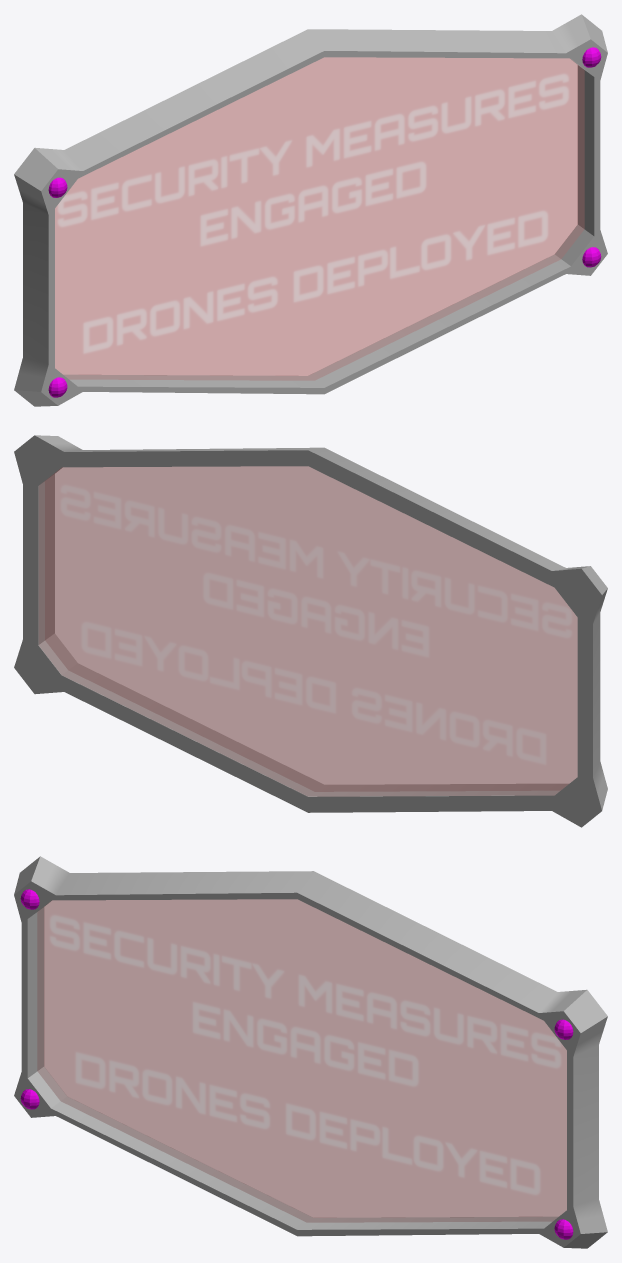
The model's file is GAME3040 - Security Alert Panel.fbx.
3 renders of one model, top to bottom at view 1: azimuth 30°, elevation 25°; view 2: azimuth 150°, elevation 25°; view 3: azimuth 330°, elevation 25°, orthographic.
Visible parts, largest first — view 1: Panel_Screen, Panel_Base; view 2: Panel_Screen, Panel_Base; view 3: Panel_Screen, Panel_Base.
Boxes of the visible parts, left/top/right/bottom form: Panel_Screen: left=55, top=57, right=584, bottom=380; Panel_Base: left=14, top=14, right=607, bottom=406; Panel_Screen: left=39, top=466, right=577, bottom=796; Panel_Base: left=14, top=435, right=607, bottom=827; Panel_Screen: left=37, top=899, right=566, bottom=1222; Panel_Base: left=14, top=856, right=607, bottom=1248.
Bounding box in the file's own units: 10.29 × 6.06 × 0.6164.
Materials: 3 (1 with a texture image).
